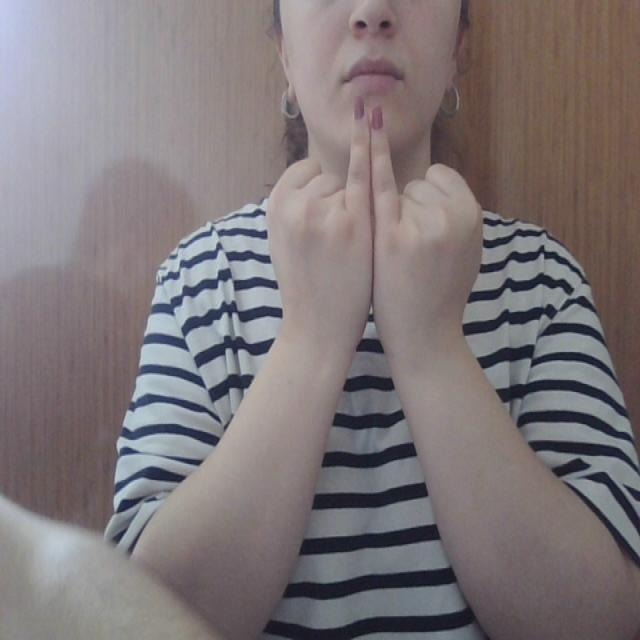Kardes: (262, 88, 488, 341)
